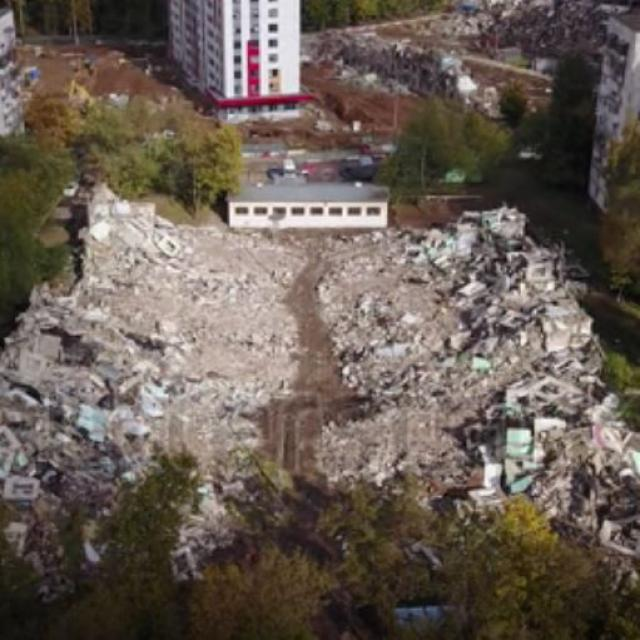collapsed_building: (11, 228, 605, 522)
